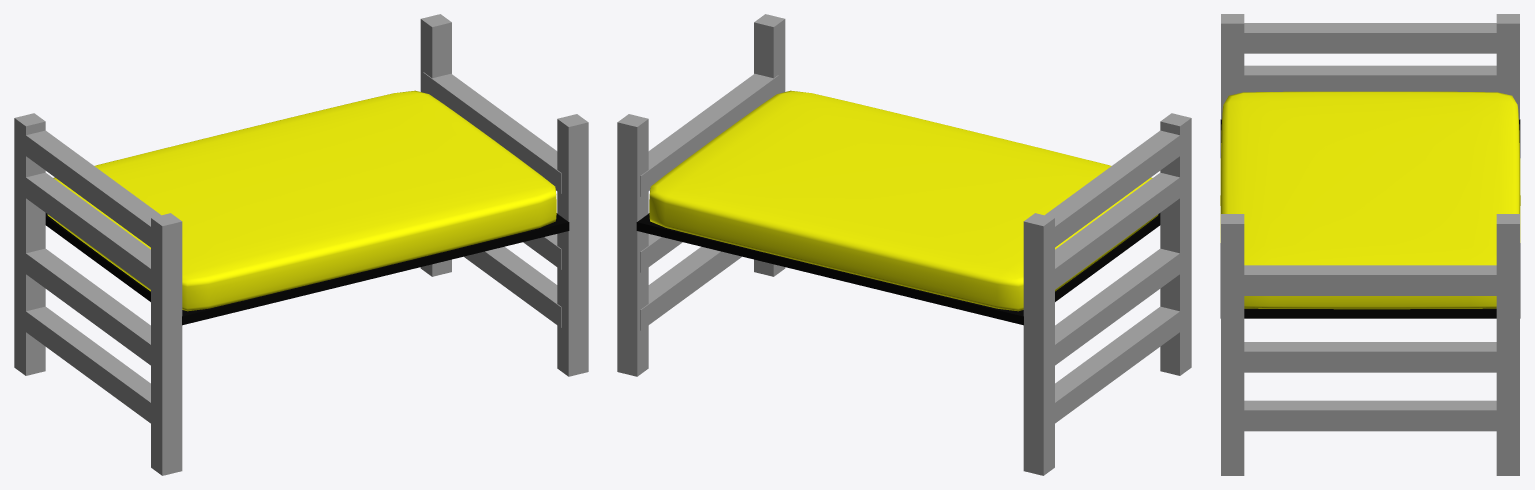
The model's file is newbednobedding.fbx.
The picture shows the model from 3 angles, left to right: view 1: azimuth 30°, elevation 25°; view 2: azimuth 150°, elevation 25°; view 3: azimuth 270°, elevation 25°; orthographic projection.
Parts seen in each view (by area): view 1: bedmattress, woodframe, metalframe; view 2: bedmattress, woodframe, metalframe; view 3: woodframe, bedmattress, metalframe.
Boxes of the visible parts, <box> form: bedmattress: <box>47,90,556,311</box>; woodframe: <box>14,14,588,475</box>; metalframe: <box>45,213,569,325</box>; bedmattress: <box>649,90,1158,311</box>; woodframe: <box>617,14,1191,475</box>; metalframe: <box>636,213,1160,325</box>; woodframe: <box>1221,14,1519,475</box>; bedmattress: <box>1220,91,1520,309</box>; metalframe: <box>1220,119,1520,318</box>.
Bounding box in the file's own units: 6.49 × 3.63 × 3.92.
